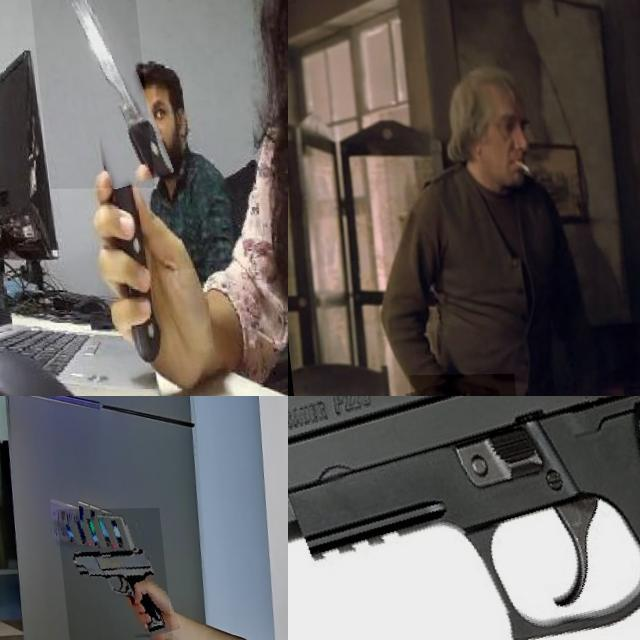-: (14, 0, 146, 190)
gun-knife-thesis - v11 Yolov5 augmented: (288, 396, 640, 640), (50, 509, 165, 640)
